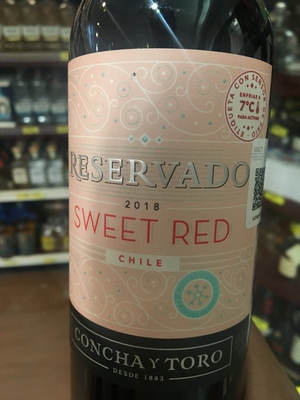reservado sweet red: (69, 10, 273, 400)
